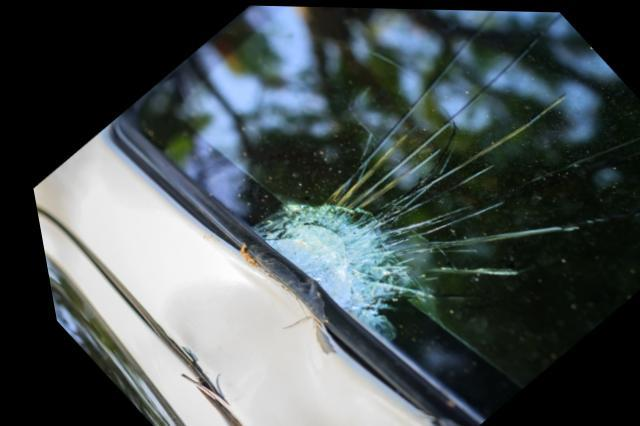dent: (147, 279, 406, 426)
glass shatter: (122, 4, 640, 423)
